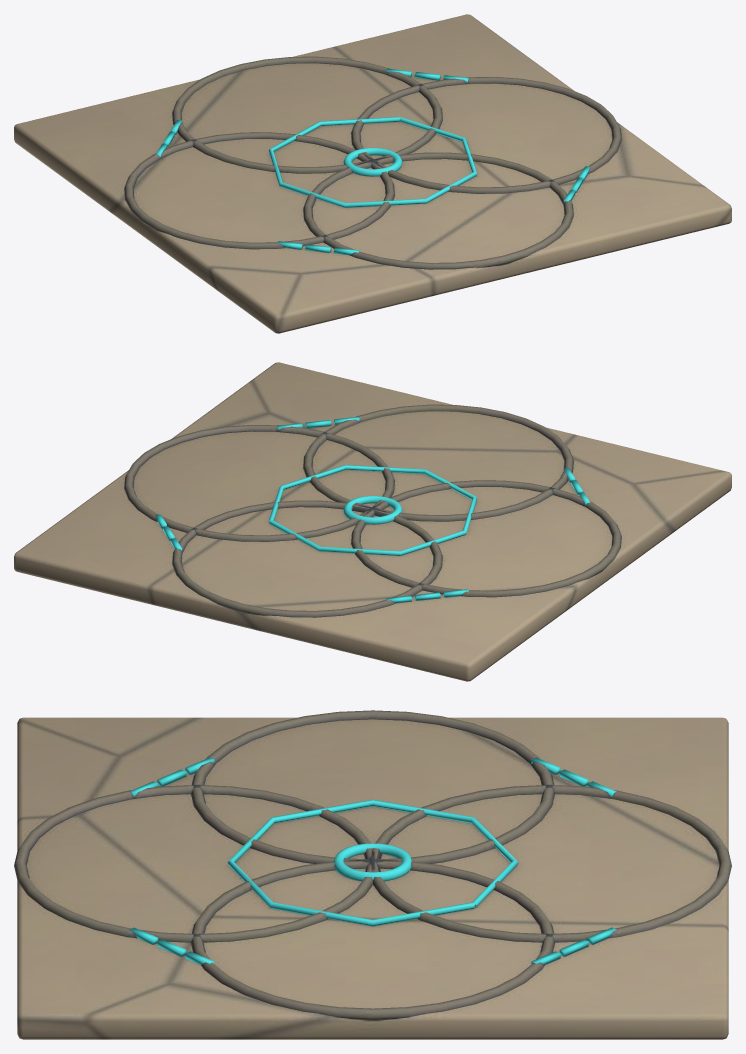
The model's file is marble_floor_tile.glb.
3 views of the same model, one above another, from view 1: azimuth 30°, elevation 25°; view 2: azimuth 150°, elevation 25°; view 3: azimuth 270°, elevation 25° (orthographic). The views are drawn at different scales.
Visible parts, largest first — view 1: marble_floor_tile; view 2: marble_floor_tile; view 3: marble_floor_tile.
Part boxes in pixels (box(x1,y1,x2,y2)): marble_floor_tile: box(14, 14, 731, 333); marble_floor_tile: box(14, 362, 731, 681); marble_floor_tile: box(14, 710, 731, 1039).
Bounding box in the file's own units: 2.52 × 0.13 × 2.52.
1 material, 1 textured.
